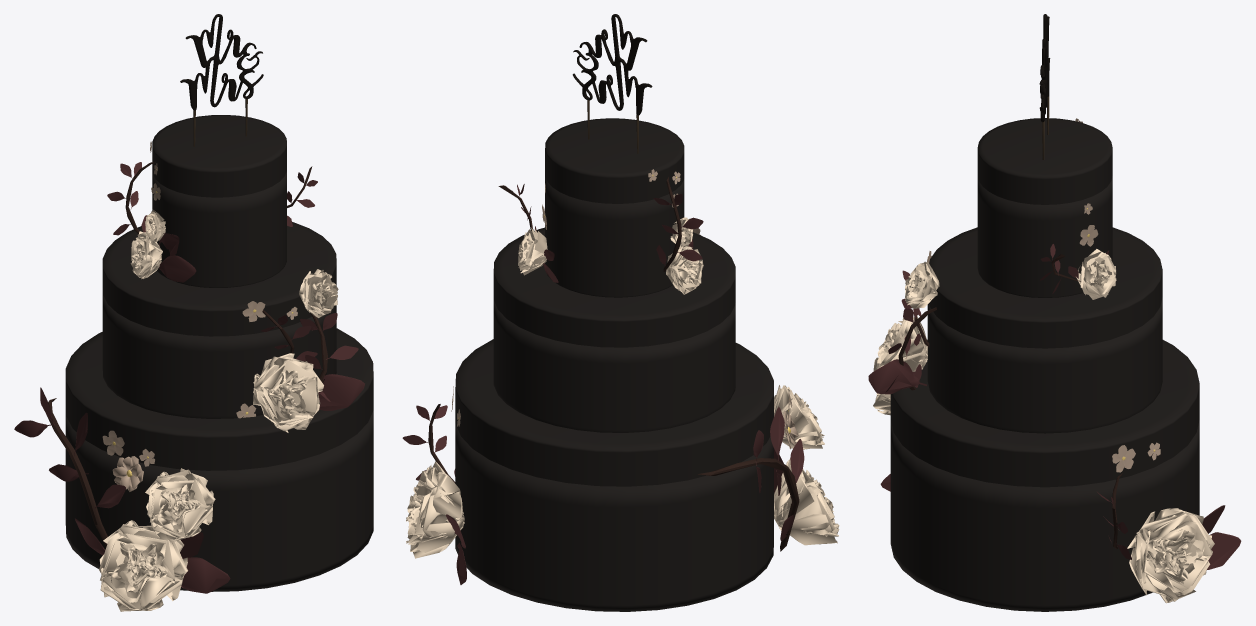
Rendered from 3-tier-black-roses-mrms.glb.
The picture shows the model from 3 angles, left to right: view 1: azimuth 30°, elevation 25°; view 2: azimuth 150°, elevation 25°; view 3: azimuth 270°, elevation 25°; orthographic projection. The views are drawn at different scales.
Visible parts, largest first — view 1: Cylinder.022, Cylinder.014, Cylinder.021, grid.042, grid.044, grid.040, Plane.093, mrms.003, grid.043, Plane.087, Plane.091, Plane.095 (+6 smaller); view 2: Cylinder.022, Cylinder.014, Cylinder.021, grid.029, grid.042, mrms.003, Plane.093, grid.040, grid.045, Plane.092, grid.047, Plane.084; view 3: Cylinder.022, Cylinder.014, Cylinder.021, grid.029, grid.044, grid.047, Plane.087, grid.043, mrms.003, Plane.095, Plane.082, Plane.084.
Boxes of the visible parts, box(x1,y1,x2,y2) form: Cylinder.022: box(65, 328, 373, 591); Cylinder.014: box(102, 222, 336, 418); Cylinder.021: box(152, 115, 286, 287); grid.042: box(99, 520, 187, 611); grid.044: box(253, 353, 323, 432); grid.040: box(145, 468, 215, 542); Plane.093: box(14, 387, 125, 555); mrms.003: box(180, 14, 263, 146); grid.043: box(299, 269, 338, 317); Plane.087: box(318, 374, 364, 410); Plane.091: box(181, 557, 230, 593); Plane.095: box(300, 313, 358, 401); Cylinder.022: box(455, 339, 773, 611); Cylinder.014: box(493, 227, 735, 432); Cylinder.021: box(545, 118, 684, 297); grid.029: box(406, 461, 464, 558); grid.042: box(774, 458, 839, 545); mrms.003: box(572, 14, 652, 153); Plane.093: box(697, 407, 804, 551); grid.040: box(774, 385, 824, 449); grid.045: box(666, 246, 703, 294); Plane.092: box(653, 177, 703, 271); grid.047: box(518, 228, 547, 275); Plane.084: box(402, 404, 455, 483); Cylinder.022: box(890, 339, 1199, 611); Cylinder.014: box(927, 227, 1162, 433); Cylinder.021: box(977, 118, 1112, 297); grid.029: box(1127, 508, 1214, 603); grid.044: box(873, 316, 927, 371); grid.047: box(1076, 249, 1116, 299); Plane.087: box(868, 359, 926, 394); grid.043: box(905, 261, 939, 308); mrms.003: box(1039, 14, 1050, 159); Plane.095: box(885, 307, 936, 392); Plane.082: box(1207, 532, 1241, 569); Plane.084: box(1097, 473, 1131, 559).
Bounding box in the file's own units: 5.28 × 7.71 × 4.9.
